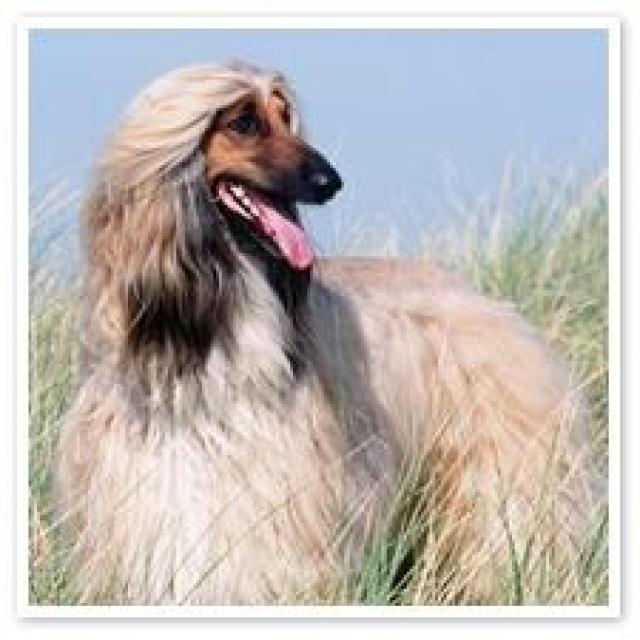afghan_hound: (71, 59, 566, 608)
